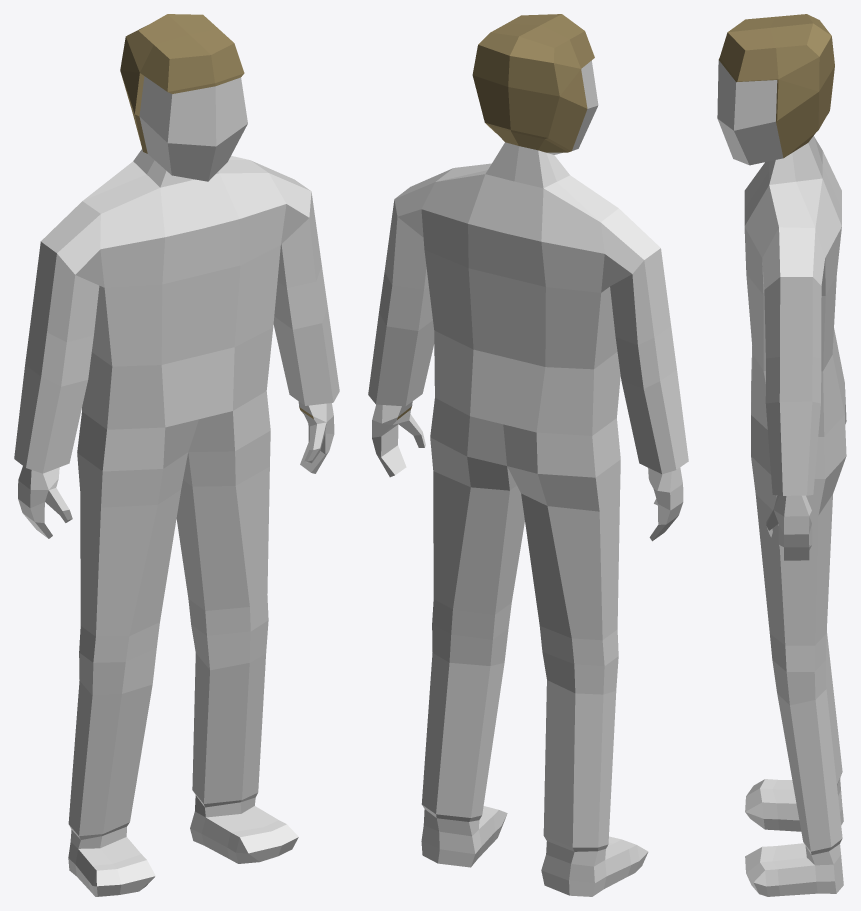
The model's file is Guevarra_BASE.fbx.
3 renders of one model, left to right at view 1: azimuth 30°, elevation 25°; view 2: azimuth 150°, elevation 25°; view 3: azimuth 270°, elevation 25°, orthographic.
Visible parts, largest first — view 1: Cube.001_Cube.000; view 2: Cube.001_Cube.000; view 3: Cube.001_Cube.000.
Part boxes in pixels (box(x1,y1,x2,y2)): Cube.001_Cube.000: box(14, 14, 339, 896); Cube.001_Cube.000: box(368, 14, 688, 896); Cube.001_Cube.000: box(717, 14, 846, 896).
Size of the model in its own units: 76.02 by 196 by 27.57.
